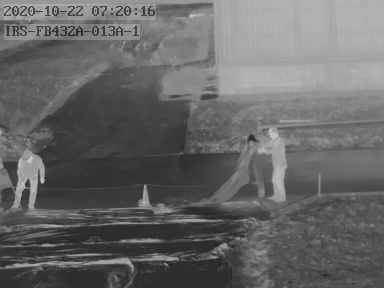person: (13, 148, 44, 211), (269, 127, 287, 201)
